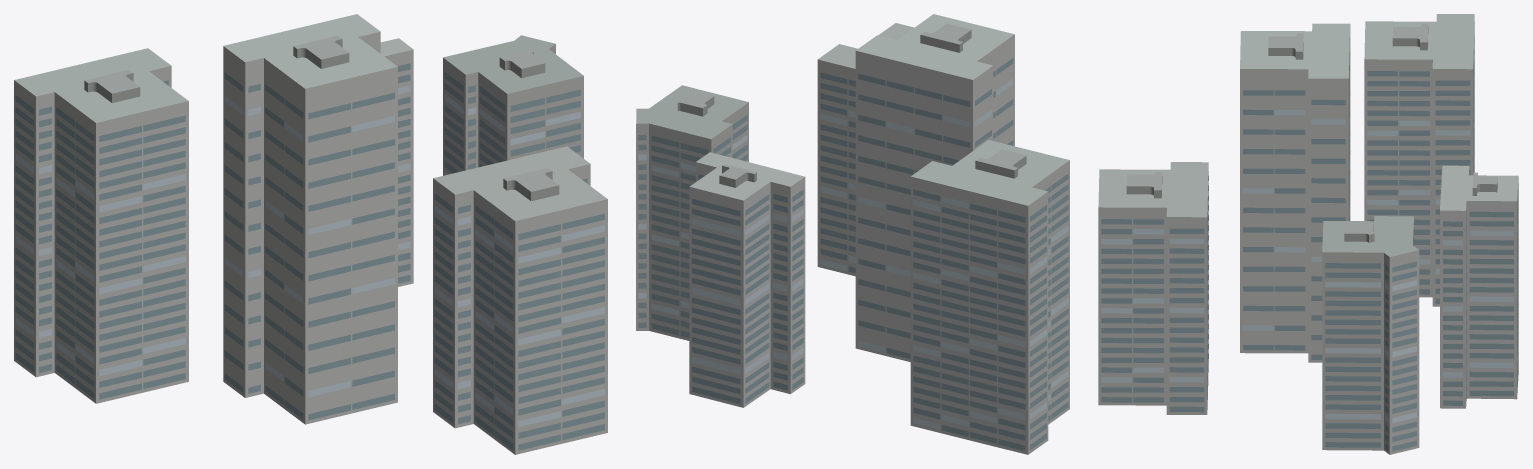
Rendered from apt-a13378001.glb.
3 renders of one model, left to right at view 1: azimuth 30°, elevation 25°; view 2: azimuth 150°, elevation 25°; view 3: azimuth 270°, elevation 25°, orthographic. The views are drawn at different scales.
Parts seen in each view (by area): view 1: apt-a13378001; view 2: apt-a13378001; view 3: apt-a13378001.
Boxes of the visible parts, x1,y1,x2,y2 form: apt-a13378001: [14, 14, 607, 454]; apt-a13378001: [636, 14, 1069, 454]; apt-a13378001: [1098, 14, 1518, 454].
Bounding box in the file's own units: 131 × 88 × 115.
